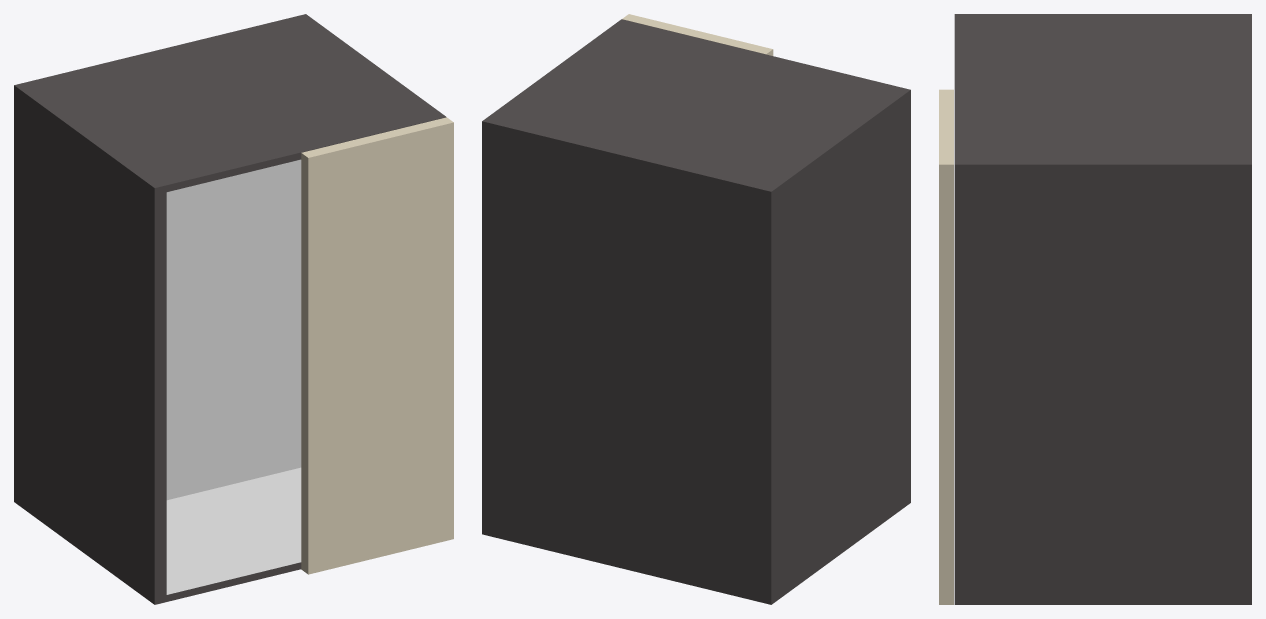
Rendered from Ascensor.fbx.
3 views of the same model, side by side, from view 1: azimuth 30°, elevation 25°; view 2: azimuth 150°, elevation 25°; view 3: azimuth 270°, elevation 25° (orthographic). The views are drawn at different scales.
Parts seen in each view (by area): view 1: Ascensor, Derecha; view 2: Ascensor, Derecha; view 3: Ascensor, Derecha.
Part boxes in pixels (x1,y1,x2,y2): Ascensor: (14,14,446,604); Derecha: (301,117,453,574); Ascensor: (482,19,910,604); Derecha: (622,14,773,55); Ascensor: (954,14,1251,604); Derecha: (939,89,953,604).
Bounding box in the file's own units: 132 × 180 × 116.
